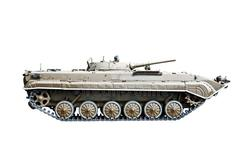bmp: (22, 58, 228, 119)
